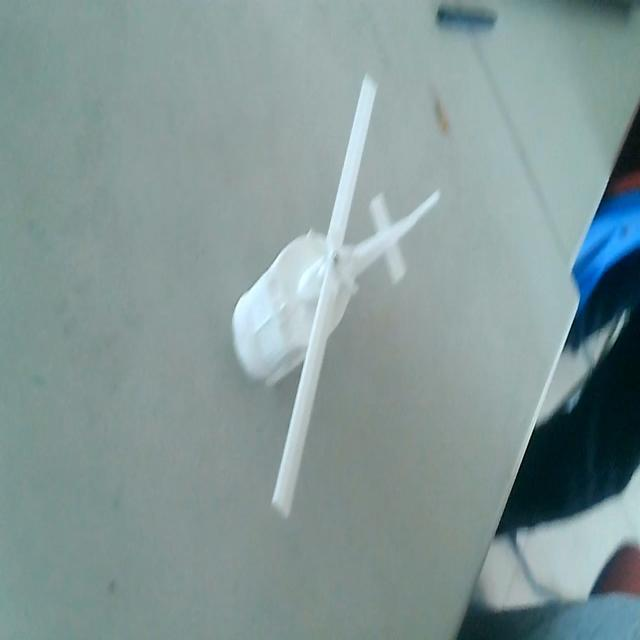Helicopter: (232, 74, 445, 524)
